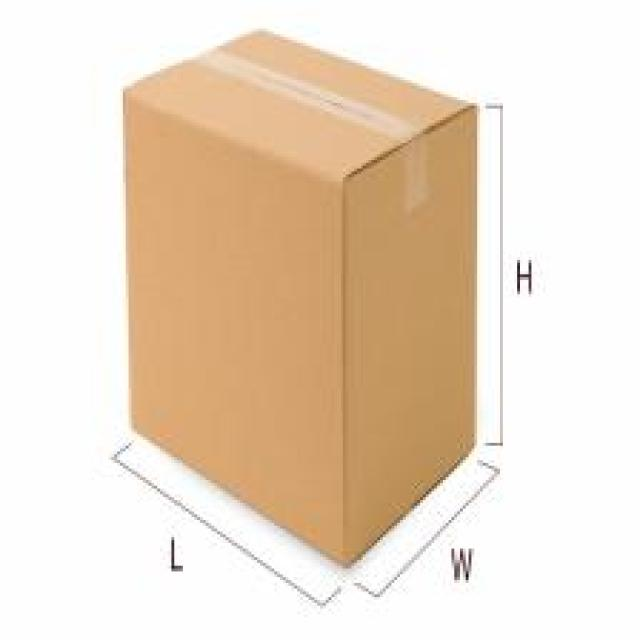box: (122, 31, 479, 566)
